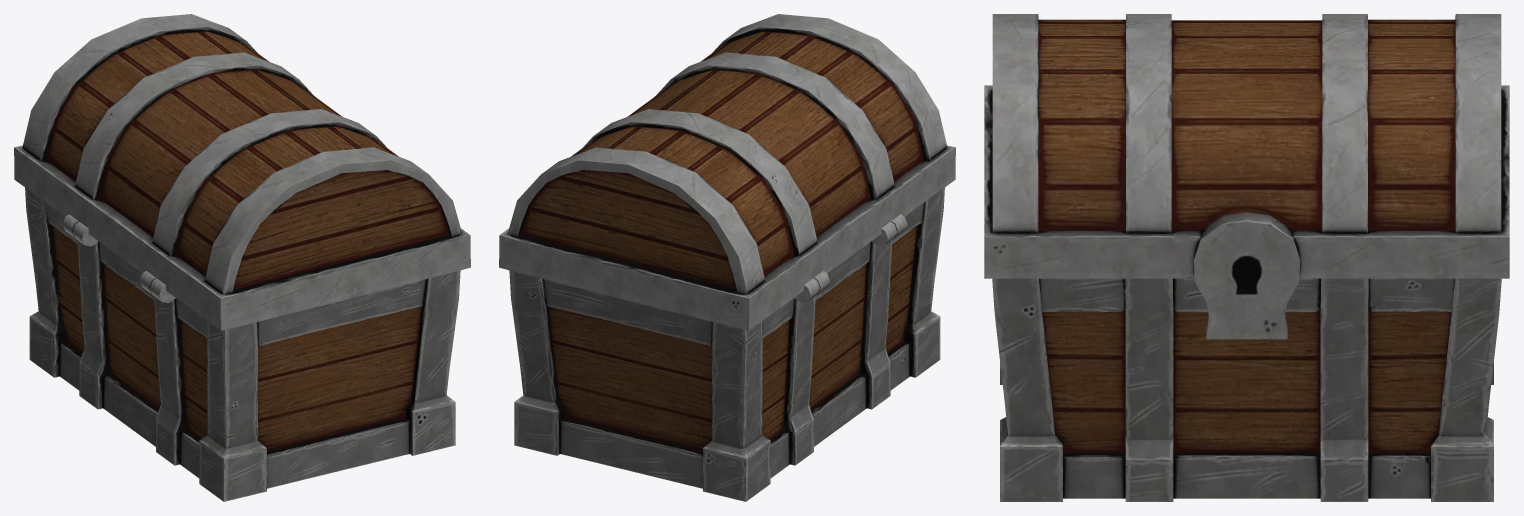
The picture shows the model from 3 angles, left to right: view 1: azimuth 30°, elevation 25°; view 2: azimuth 150°, elevation 25°; view 3: azimuth 270°, elevation 25°; orthographic projection. The views are drawn at different scales.
Parts seen in each view (by area): view 1: Chest_Top, Coins_Final_Chest_0; view 2: Chest_Top, Coins_Final_Chest_0; view 3: Chest_Top, Coins_Final_Chest_0.
Part boxes in pixels (<box>): Chest_Top: <box>14,14,470,330</box>; Coins_Final_Chest_0: <box>25,187,460,501</box>; Chest_Top: <box>499,14,955,330</box>; Coins_Final_Chest_0: <box>509,187,944,501</box>; Chest_Top: <box>984,14,1509,339</box>; Coins_Final_Chest_0: <box>992,278,1501,501</box>.
Bounding box in the file's own units: 1.81 × 2.06 × 2.48.
1 material, 1 textured.
